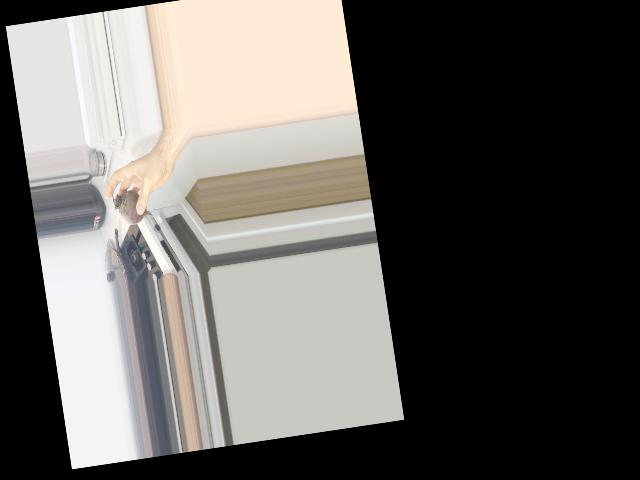beet: (111, 178, 154, 227)
